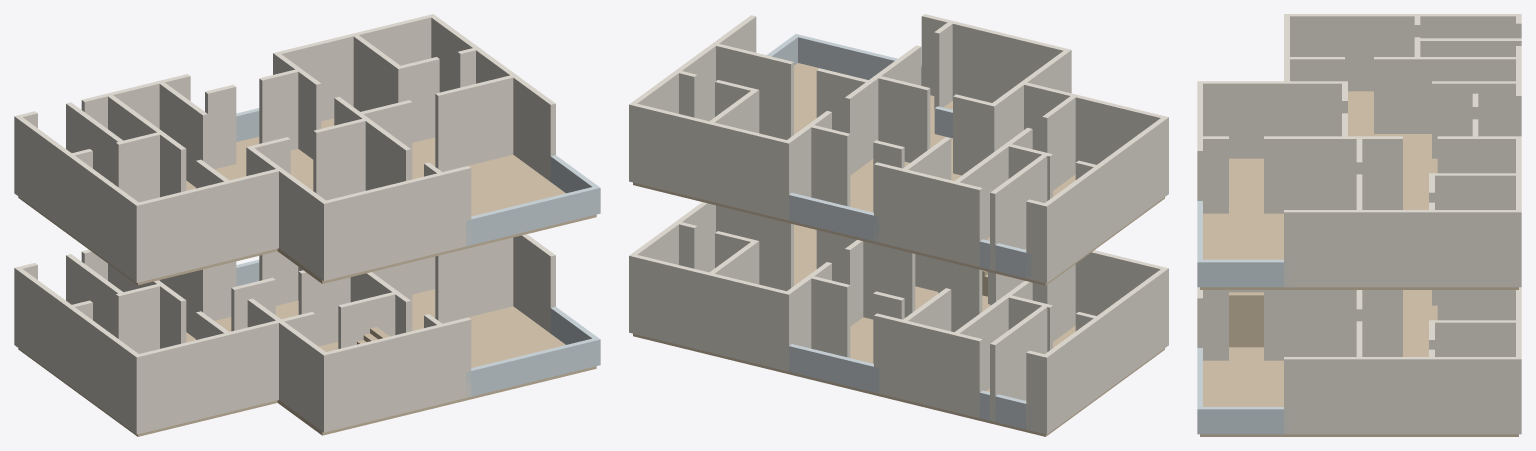
File: earth-villa.glb
3 views of the same model, side by side, from view 1: azimuth 30°, elevation 25°; view 2: azimuth 150°, elevation 25°; view 3: azimuth 270°, elevation 25° (orthographic). The views are drawn at different scales.
Parts seen in each view (by area): view 1: EarthFirst, EarthGround; view 2: EarthFirst, EarthGround; view 3: EarthFirst, EarthGround.
Part boxes in pixels (x1=…): EarthFirst: x1=14, y1=14, x2=600, y2=285; EarthGround: x1=14, y1=234, x2=600, y2=436; EarthFirst: x1=629, y1=14, x2=1168, y2=285; EarthGround: x1=629, y1=202, x2=1168, y2=436; EarthFirst: x1=1197, y1=14, x2=1521, y2=289; EarthGround: x1=1197, y1=287, x2=1521, y2=436.
Bounding box in the file's own units: 16.2 × 8.6 × 11.2.
